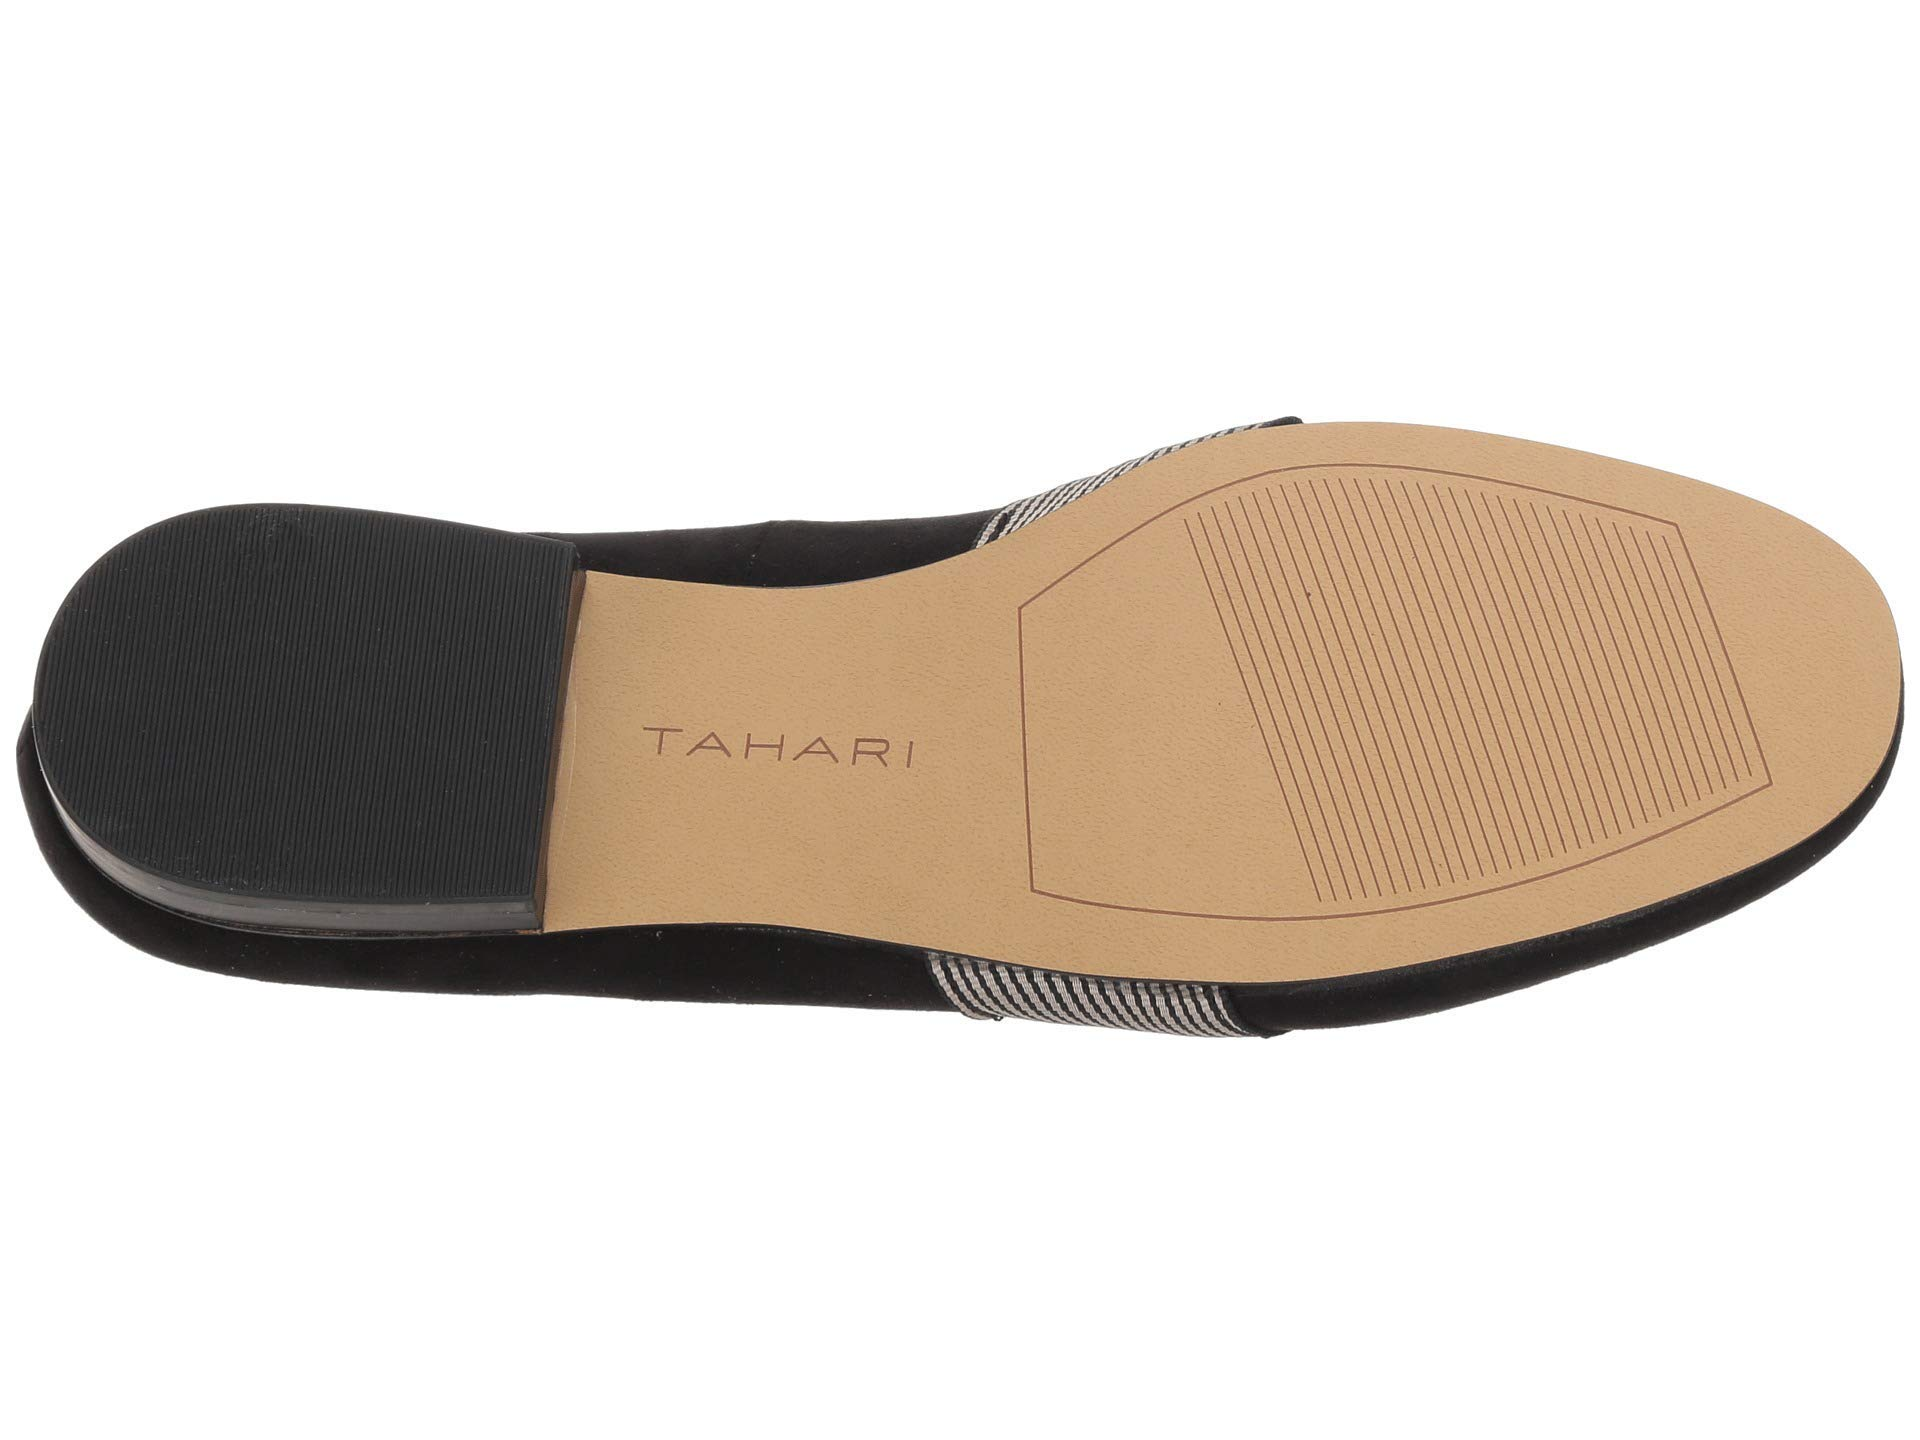line: (1250, 504, 1722, 812)
